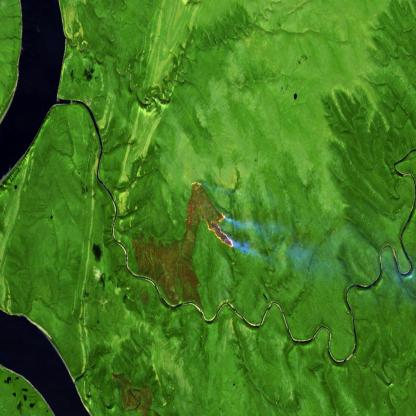fire: (186, 179, 236, 250)
